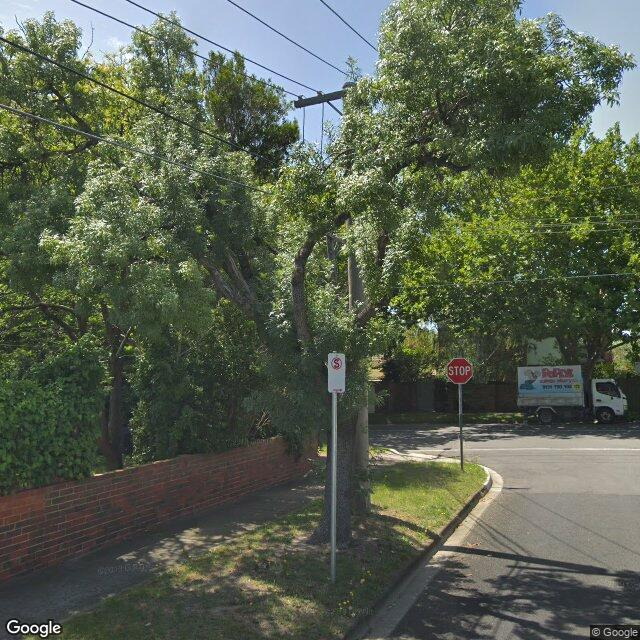crossarm: (294, 88, 346, 110)
timber-pole: (341, 79, 372, 518)
